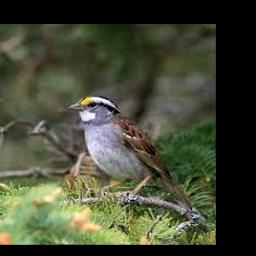Sparrow: (68, 95, 194, 214)
